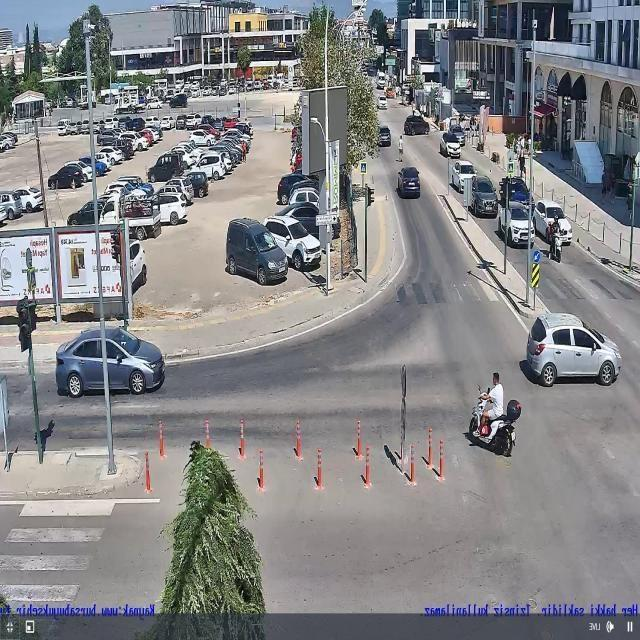Car: (55, 327, 164, 398), (525, 312, 621, 386), (262, 216, 322, 271), (275, 202, 341, 240), (532, 199, 573, 246), (498, 200, 536, 248), (502, 176, 535, 211), (152, 192, 186, 225), (471, 176, 499, 216), (277, 173, 312, 205), (190, 152, 228, 181), (66, 199, 108, 225), (128, 239, 148, 291), (47, 165, 84, 190), (452, 160, 478, 193), (116, 175, 154, 197), (12, 186, 42, 213), (287, 187, 321, 209), (0, 189, 24, 220), (398, 166, 421, 198), (62, 160, 93, 183), (439, 132, 462, 159), (186, 170, 207, 198), (123, 130, 149, 152), (403, 115, 430, 136), (97, 146, 123, 166), (187, 130, 216, 147), (446, 123, 466, 147), (96, 128, 123, 145), (377, 125, 392, 146), (185, 112, 202, 129), (222, 116, 240, 131), (159, 116, 176, 130), (0, 133, 15, 148), (147, 98, 164, 109), (377, 96, 388, 110)
Cycle: (549, 228, 566, 264)
Truck: (100, 193, 162, 240), (113, 92, 146, 117)
Van: (225, 215, 289, 287), (146, 151, 184, 182), (56, 117, 70, 136), (377, 71, 388, 89)
